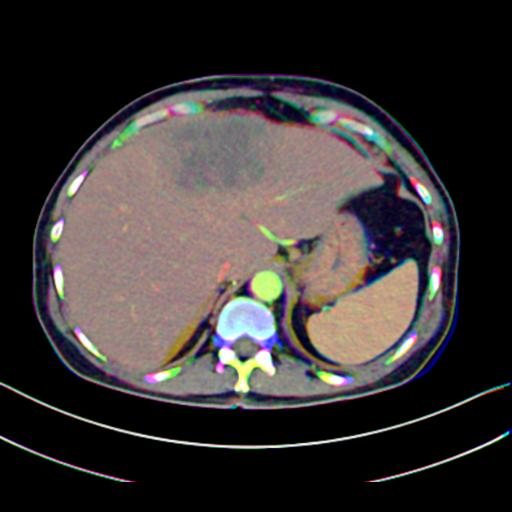Abscess: (171, 116, 268, 190)
